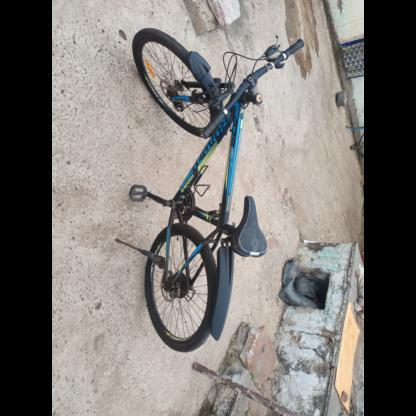Bicycle: (107, 14, 302, 360)
